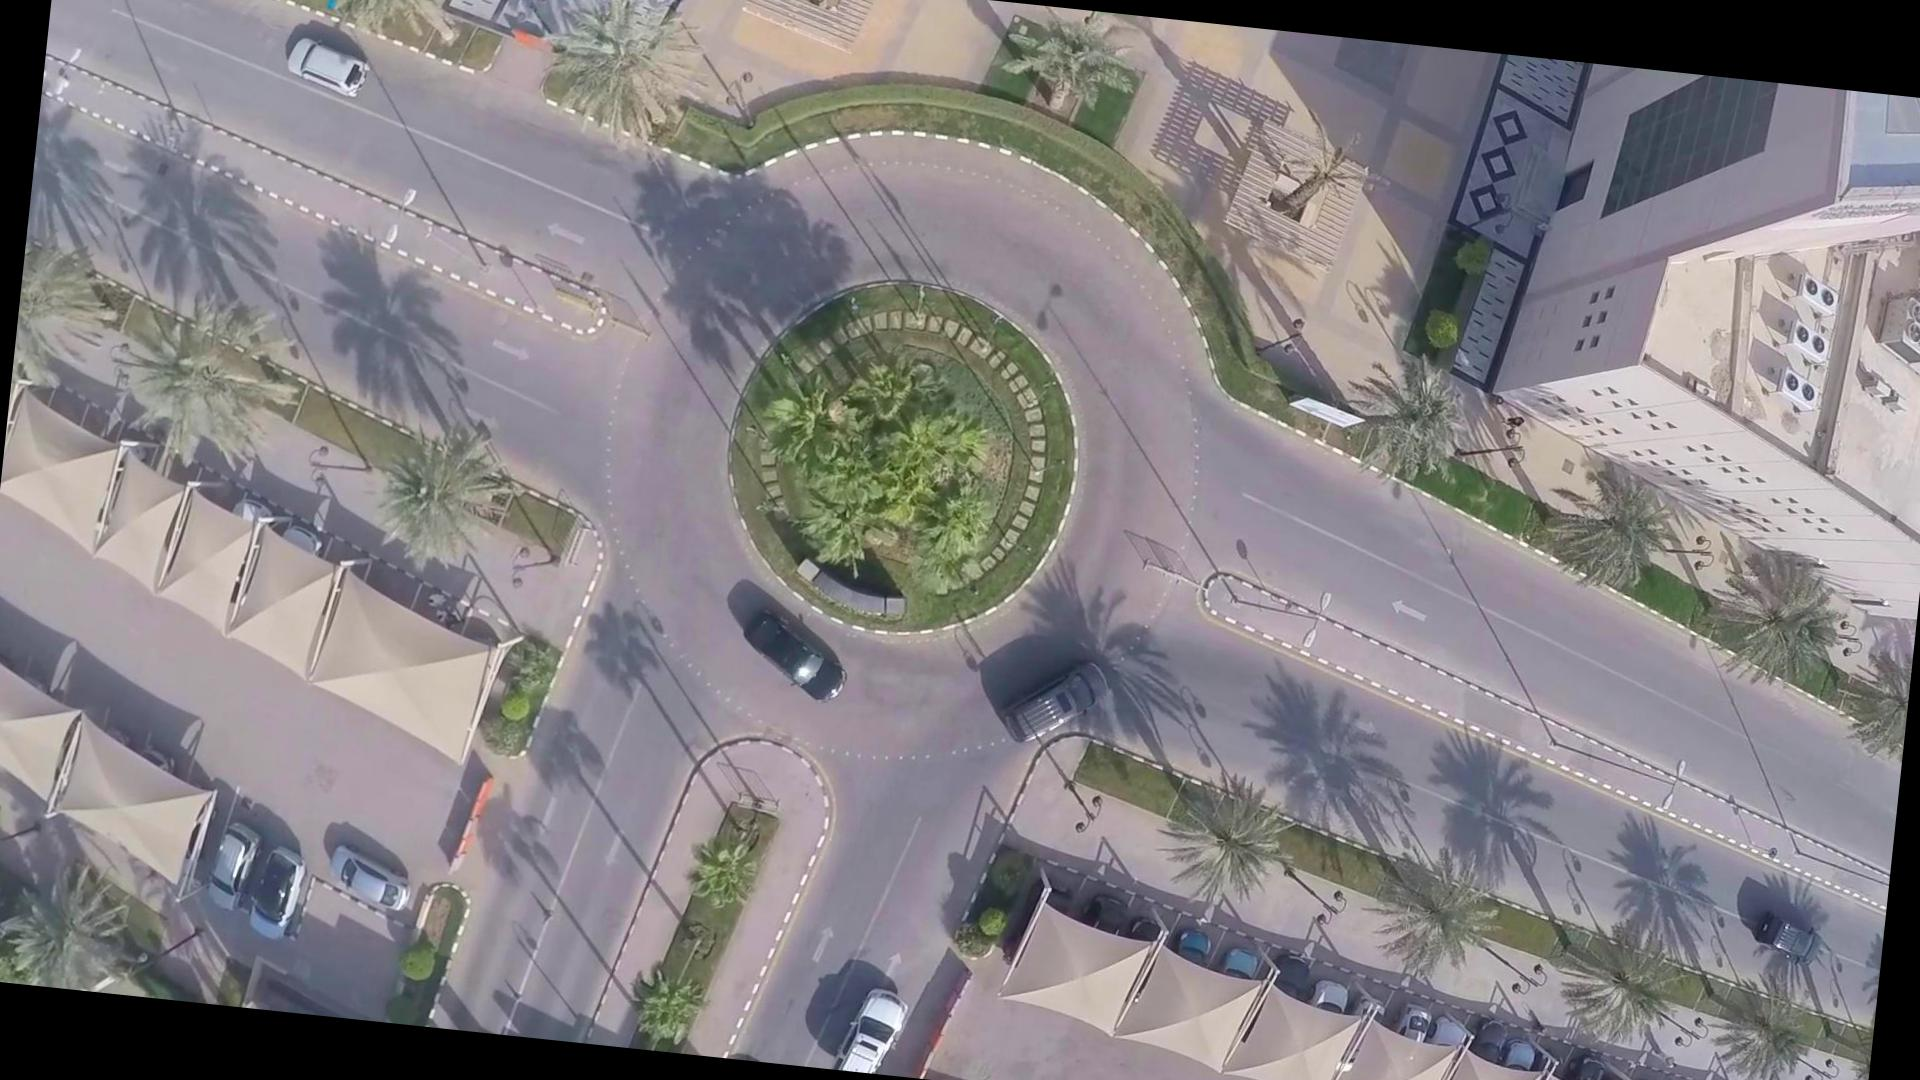vehicle: (738, 613, 854, 715), (998, 659, 1119, 744), (289, 32, 371, 113), (1741, 896, 1824, 972)
